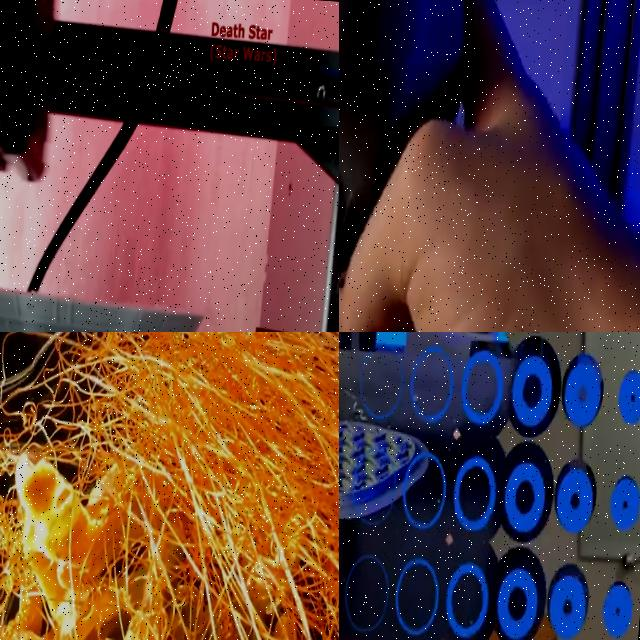spaghetti: (0, 332, 339, 640)
